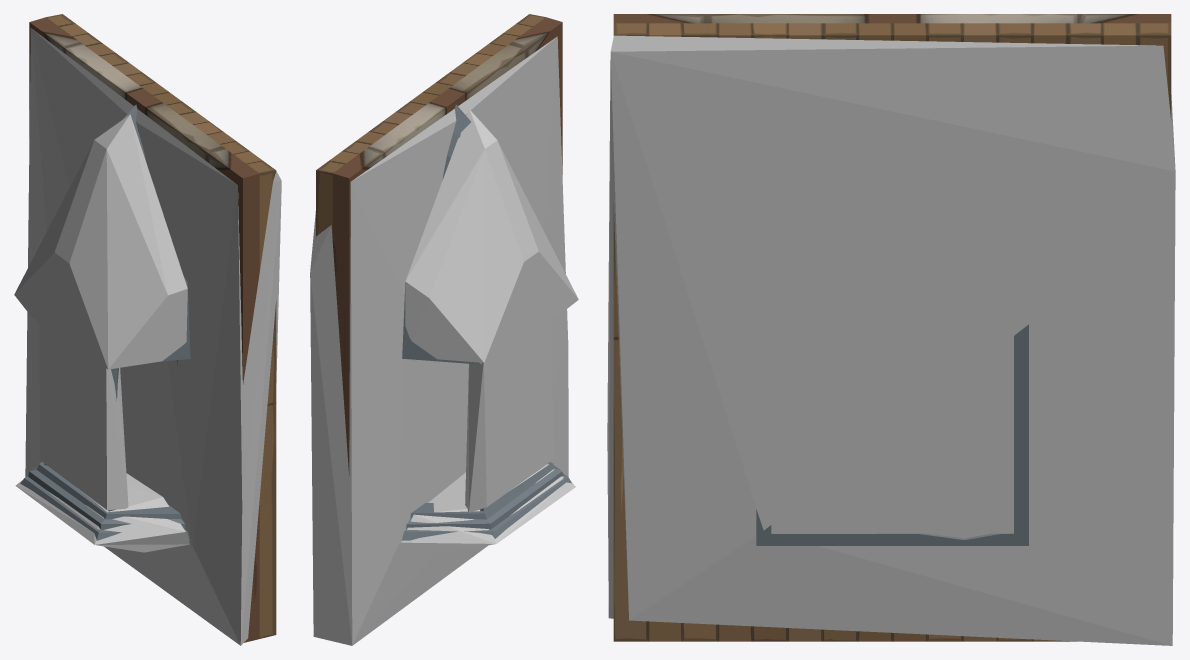
Rendered from SM_Bld_Window_Box_03.fbx.
3 views of the same model, side by side, from view 1: azimuth 30°, elevation 25°; view 2: azimuth 150°, elevation 25°; view 3: azimuth 270°, elevation 25° (orthographic). The views are drawn at different scales.
Visible parts, largest first — view 1: SM_Bld_Window_Box_03_ConvexHulls, SM_Bld_Window_Box_03; view 2: SM_Bld_Window_Box_03_ConvexHulls, SM_Bld_Window_Box_03; view 3: SM_Bld_Window_Box_03_ConvexHulls, SM_Bld_Window_Box_03.
Part boxes in pixels (x1,y1,x2,y2): SM_Bld_Window_Box_03_ConvexHulls: [14, 28, 281, 645]; SM_Bld_Window_Box_03: [20, 14, 276, 642]; SM_Bld_Window_Box_03_ConvexHulls: [310, 36, 578, 645]; SM_Bld_Window_Box_03: [316, 14, 572, 540]; SM_Bld_Window_Box_03_ConvexHulls: [607, 35, 1175, 645]; SM_Bld_Window_Box_03: [613, 14, 1171, 641].
Size of the model in its own units: 80.1 by 255 by 302.
4 materials, 3 textured.
